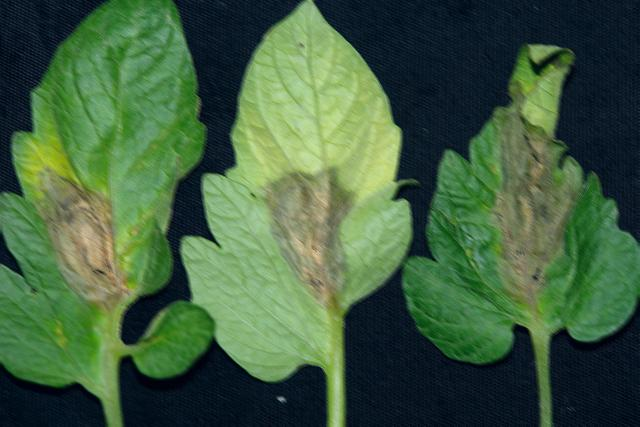Tomato mold leaf: (182, 8, 408, 414), (419, 9, 636, 427), (0, 8, 206, 427)
